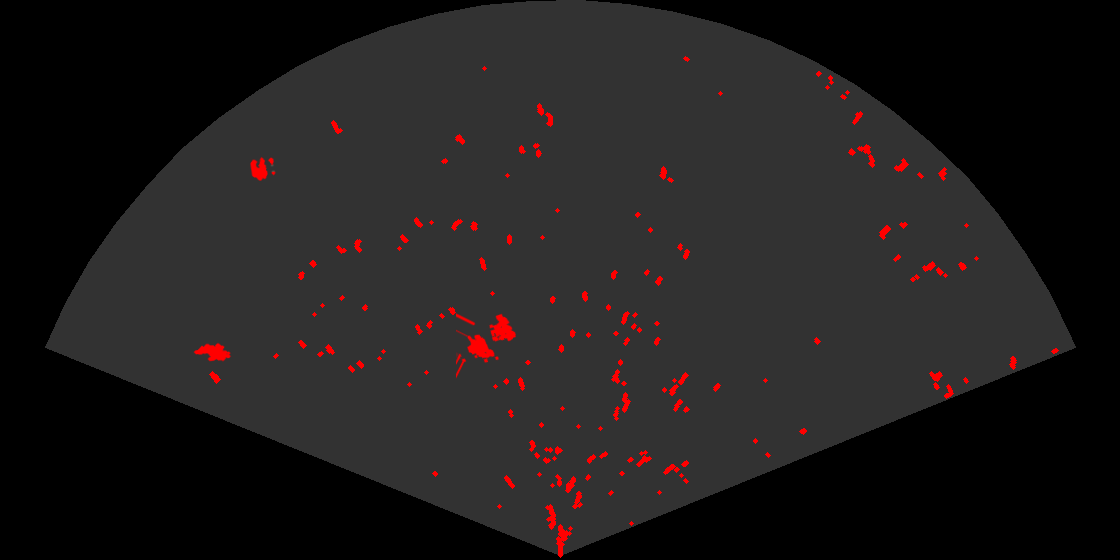AUV: (192, 341, 233, 363)
ball: (249, 155, 277, 182)
cage: (456, 312, 518, 380)
